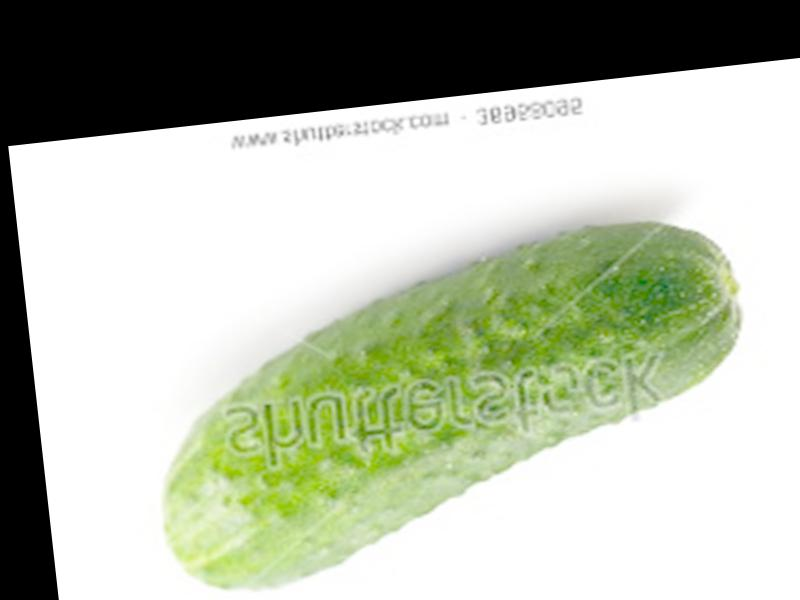Cucumber: (136, 208, 764, 600)
